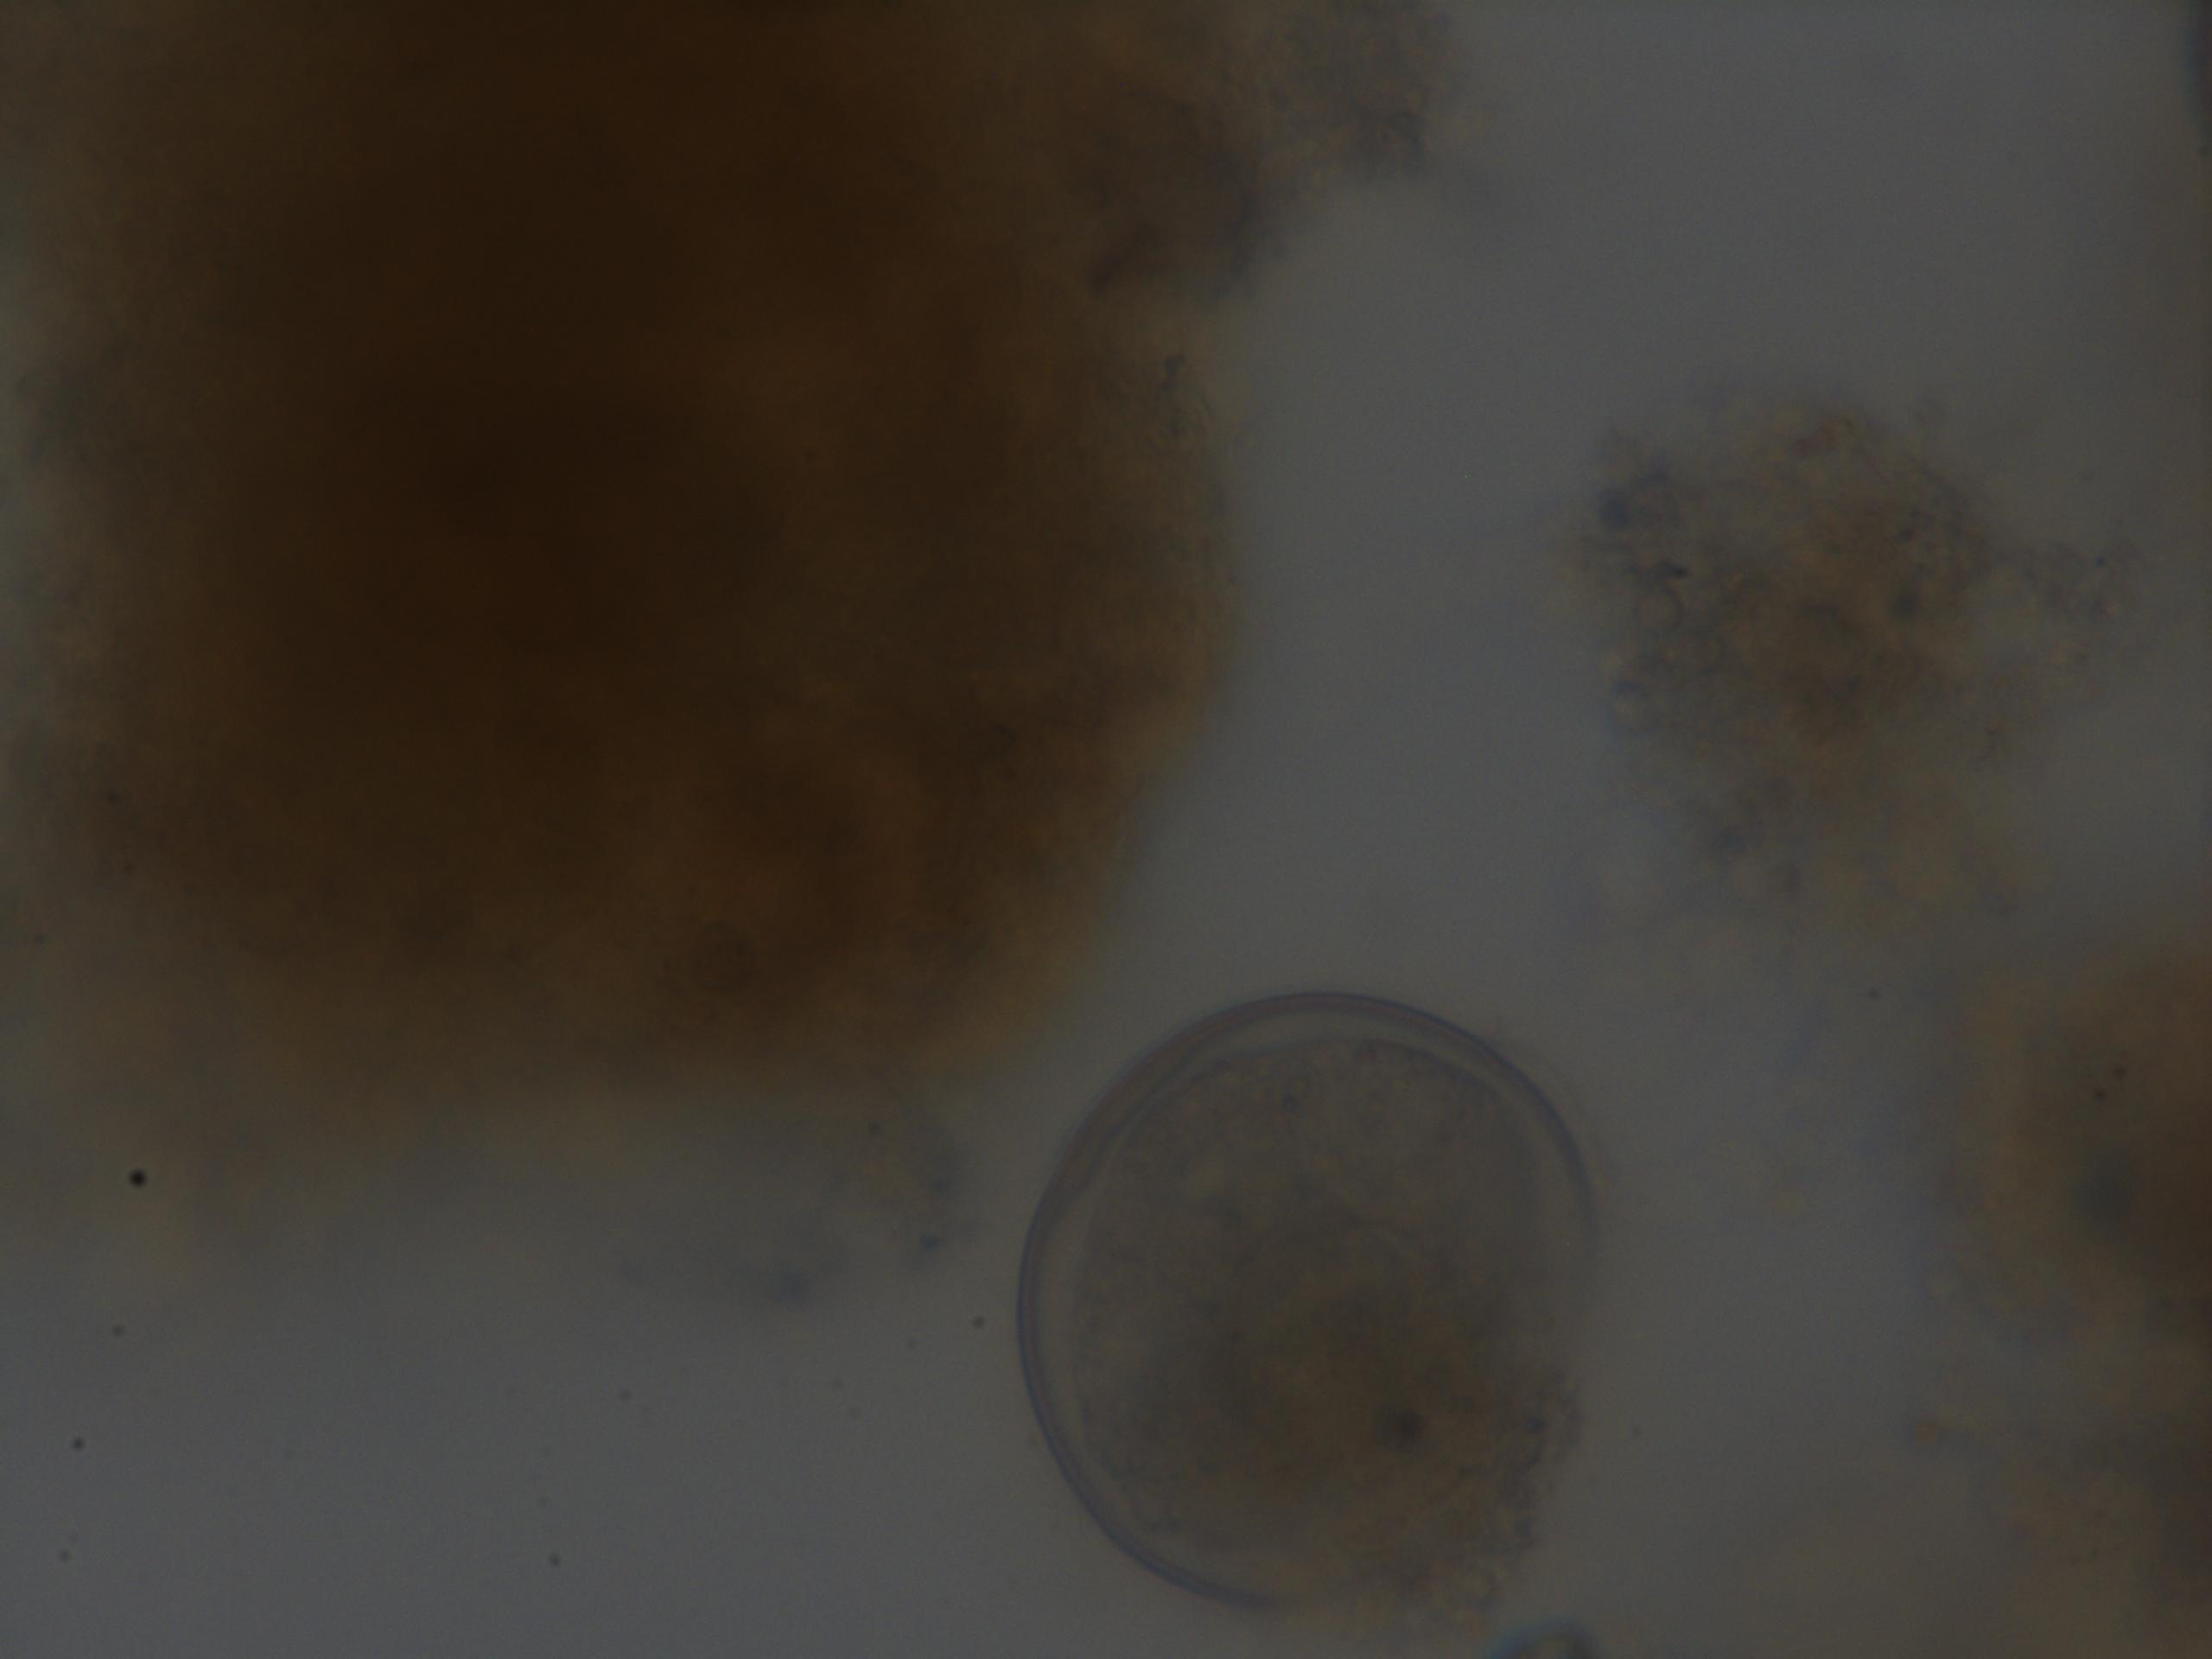protozoa: (995, 983, 1622, 1652)
spherical_floc: (0, 0, 1299, 1129)
